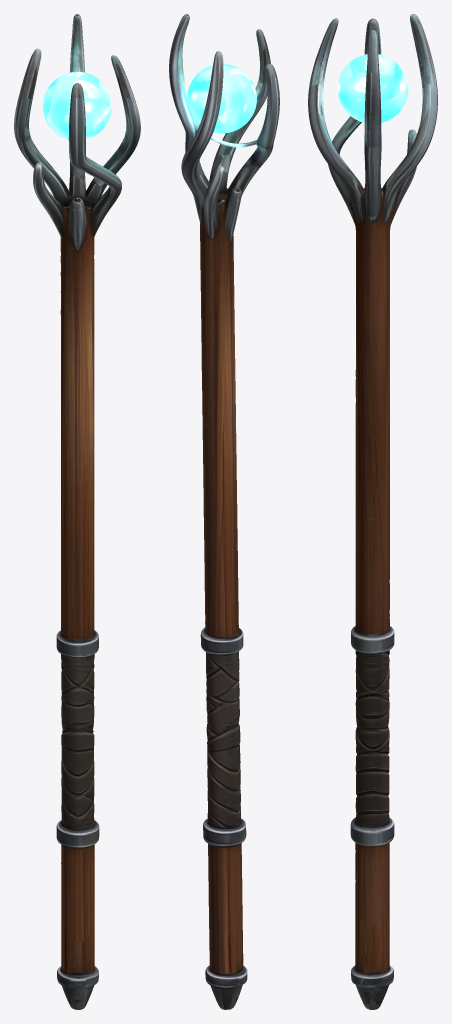
File: Staff.glb
The picture shows the model from 3 angles, left to right: view 1: azimuth 90°, elevation 25°; view 2: azimuth 150°, elevation 25°; view 3: azimuth 270°, elevation 25°; orthographic projection. The views are drawn at different scales.
Visible parts, largest first — view 1: Mesh_0; view 2: Mesh_0; view 3: Mesh_0.
Part boxes in pixels (x1=…): Mesh_0: x1=14, y1=14, x2=140, y2=1009; Mesh_0: x1=169, y1=14, x2=279, y2=1009; Mesh_0: x1=308, y1=14, x2=437, y2=1009.
Size of the model in its own units: 0.298 by 2.59 by 0.3059.
Materials: 1 (1 with a texture image).
